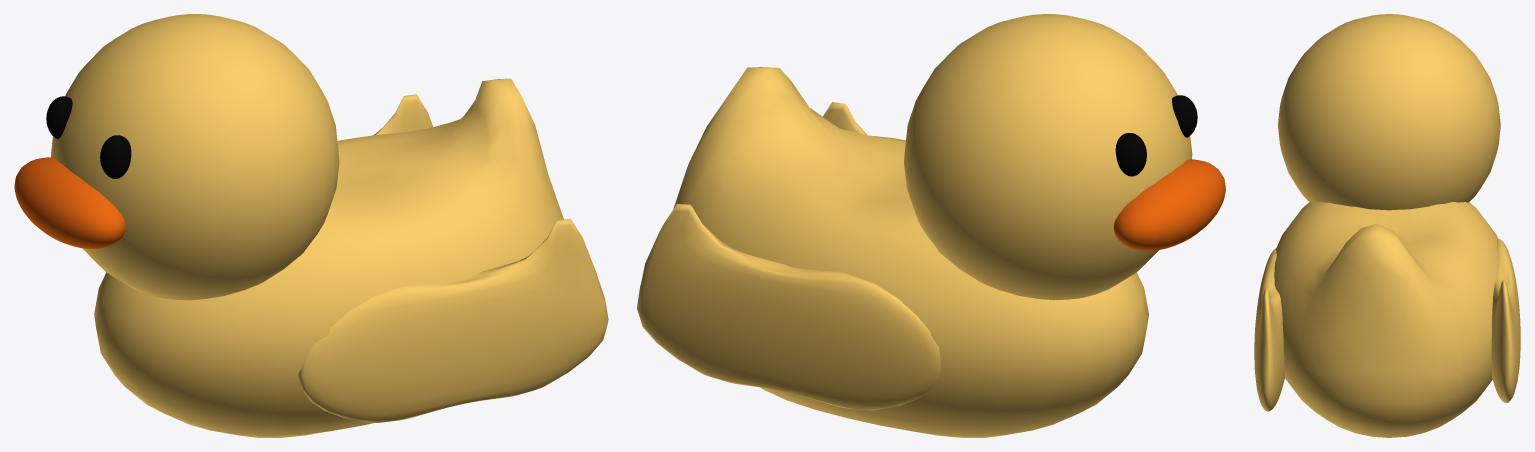
Rendered from duck.glb.
3 renders of one model, left to right at view 1: azimuth 30°, elevation 25°; view 2: azimuth 150°, elevation 25°; view 3: azimuth 270°, elevation 25°, orthographic. The views are drawn at different scales.
Parts seen in each view (by area): view 1: Sphere.001, Sphere, Sphere.004, Sphere.002, Sphere.003, Sphere.005, Sphere.006; view 2: Sphere.001, Sphere, Sphere.003, Sphere.002, Sphere.006, Sphere.005, Sphere.004; view 3: Sphere.001, Sphere, Sphere.003, Sphere.004.
Part boxes in pixels (x1,y1,x2,y2): Sphere.001: (94,78,563,437); Sphere: (51,14,339,300); Sphere.004: (298,219,608,422); Sphere.002: (14,157,125,248); Sphere.003: (373,94,432,135); Sphere.005: (100,135,131,178); Sphere.006: (46,96,72,138); Sphere.001: (673,67,1148,437); Sphere: (904,14,1192,300); Sphere.003: (637,203,940,410); Sphere.002: (1113,159,1225,250); Sphere.006: (1115,133,1146,176); Sphere.005: (1172,95,1197,137); Sphere.004: (823,102,866,134); Sphere.001: (1274,201,1498,437); Sphere: (1278,14,1500,210); Sphere.003: (1491,238,1520,403); Sphere.004: (1254,248,1284,411).
Bounding box in the file's own units: 4.2 × 3.12 × 2.39.
